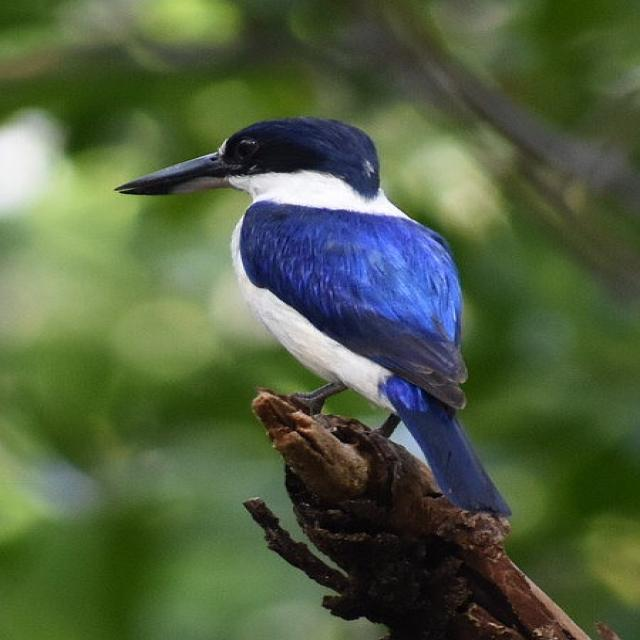kingfisher: (97, 62, 573, 525)
